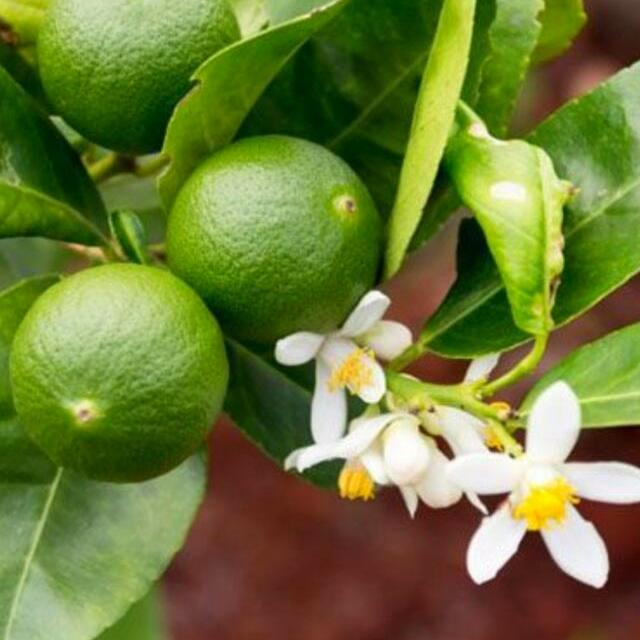lime: (5, 254, 236, 491), (171, 126, 395, 365), (28, 0, 250, 161)
